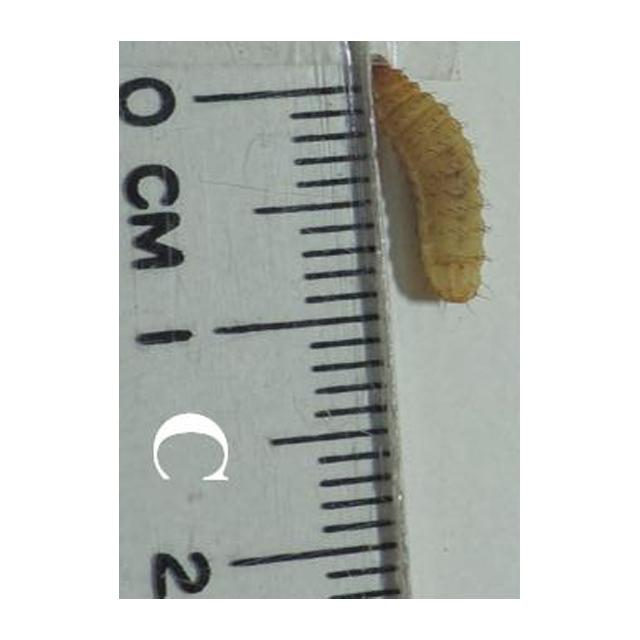Maggot: (364, 54, 492, 303)
